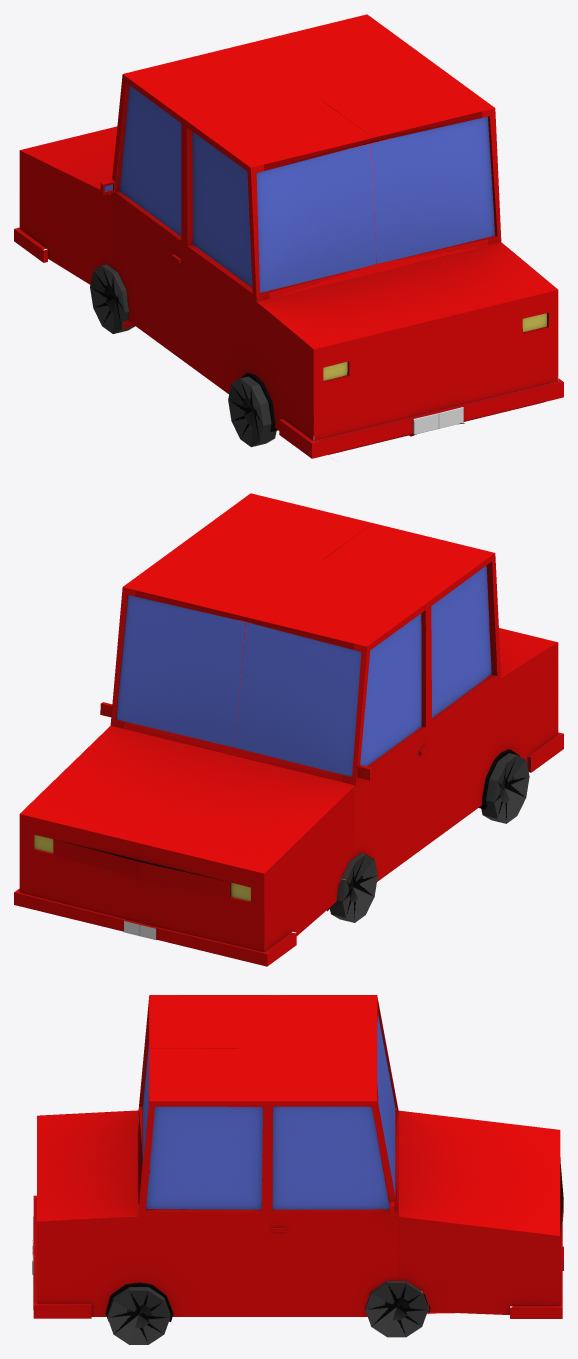
Rendered from Voiture14.glb.
3 renders of one model, top to bottom at view 1: azimuth 30°, elevation 25°; view 2: azimuth 150°, elevation 25°; view 3: azimuth 270°, elevation 25°, orthographic. The views are drawn at different scales.
Parts seen in each view (by area): view 1: Cube; view 2: Cube; view 3: Cube.
Part boxes in pixels (x1,y1,x2,y2): Cube: (14,14,563,458); Cube: (14,493,563,966); Cube: (32,995,563,1344).
Bounding box in the file's own units: 0.9479 × 0.9031 × 1.88.
1 material, 1 textured.
